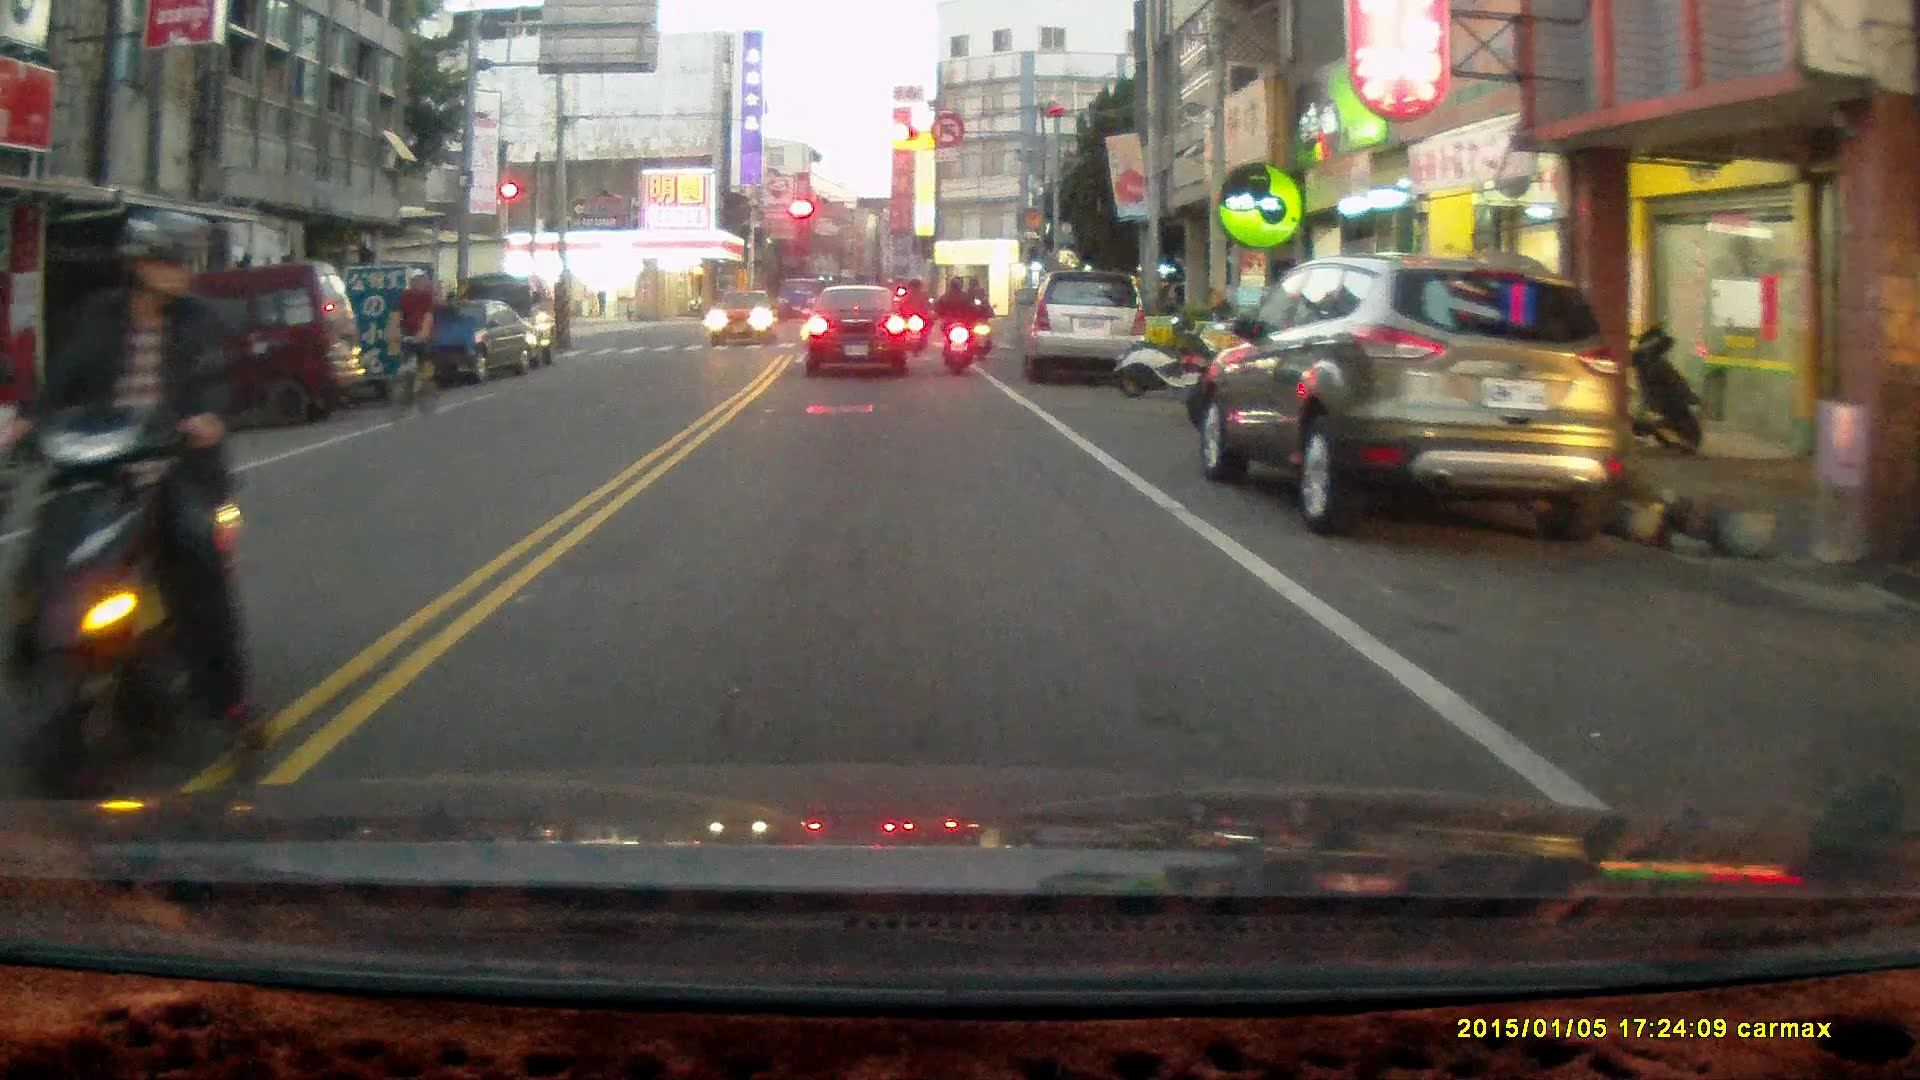rider: (0, 205, 263, 814), (385, 269, 439, 422), (930, 271, 978, 377), (895, 273, 930, 356), (963, 282, 993, 361)
vehicle: (1197, 254, 1617, 546), (98, 262, 369, 433), (1025, 270, 1152, 387), (410, 297, 532, 386), (806, 282, 913, 376), (705, 287, 776, 347)
